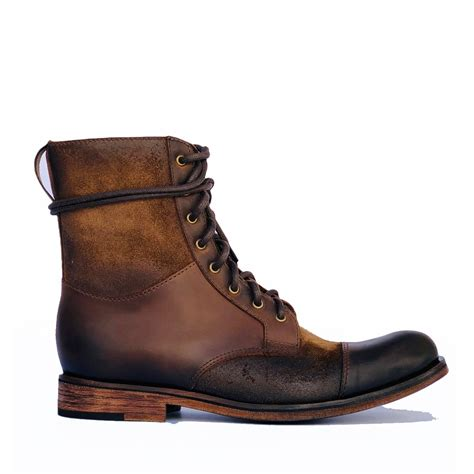cuero: (34, 136, 442, 410)
